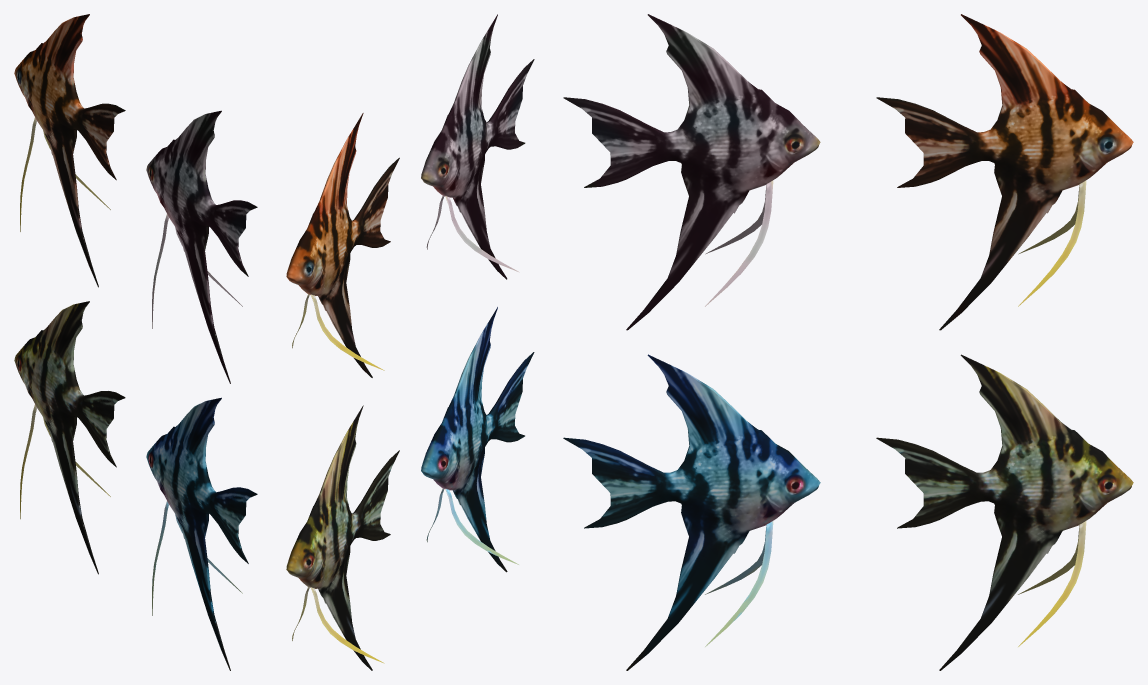
File: Low_poly_Angel_Fish.glb
3 renders of one model, left to right at view 1: azimuth 30°, elevation 25°; view 2: azimuth 150°, elevation 25°; view 3: azimuth 270°, elevation 25°, orthographic. The views are drawn at different scales.
Visible parts, largest first — view 1: pCube4_texture_2_0, pCube3_texture_1_0, pCube6_texture_4_0, pCube5_texture_3_0; view 2: pCube4_texture_2_0, pCube3_texture_1_0, pCube5_texture_3_0, pCube6_texture_4_0; view 3: pCube3_texture_1_0, pCube5_texture_3_0, pCube6_texture_4_0, pCube4_texture_2_0.
Part boxes in pixels (<box>): pCube4_texture_2_0: <box>14,14,125,287</box>; pCube3_texture_1_0: <box>14,301,125,574</box>; pCube6_texture_4_0: <box>146,110,257,383</box>; pCube5_texture_3_0: <box>146,397,257,670</box>; pCube4_texture_2_0: <box>286,113,399,377</box>; pCube3_texture_1_0: <box>286,405,399,670</box>; pCube5_texture_3_0: <box>421,307,534,572</box>; pCube6_texture_4_0: <box>421,14,534,279</box>; pCube3_texture_1_0: <box>876,354,1133,670</box>; pCube5_texture_3_0: <box>563,354,820,670</box>; pCube6_texture_4_0: <box>563,14,820,330</box>; pCube4_texture_2_0: <box>876,14,1133,330</box>.
Bounding box in the file's own units: 1.99 × 11.58 × 9.11.
Materials: 4 (4 with a texture image).
